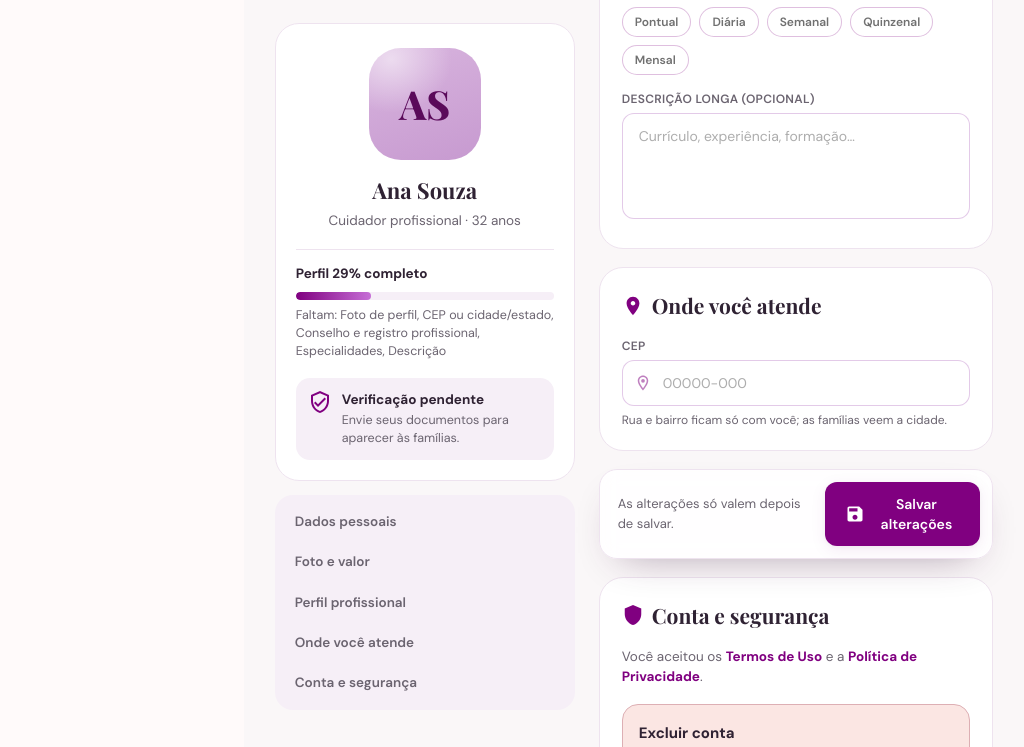
it: Página de Perfil › um só campo de CEP: mostra rua, bairro, cidade e UF e envia o endereço
(page scrolled)
Type "50030230" into the field labelled "CEP" at (796,382), box x1=622 y1=360 x2=970 y2=406
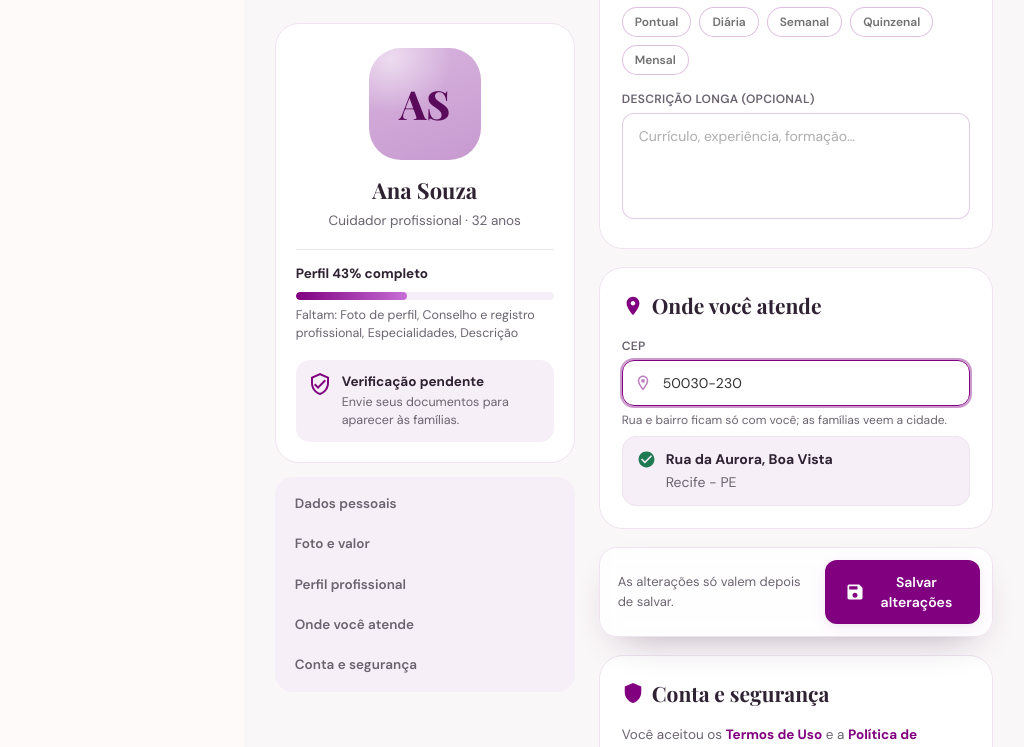
Result: the field labelled "CEP" holds "50030-230" at x1=622 y1=360 x2=970 y2=406
Result: the text "Rua da Aurora, Boa Vista" is shown at x1=666 y1=448 x2=833 y2=470
Result: the text "Recife - PE" is shown at x1=666 y1=472 x2=736 y2=490
Click the button "Salvar alterações" at (902,592), box x1=825 y1=560 x2=980 y2=624
(page scrolled)
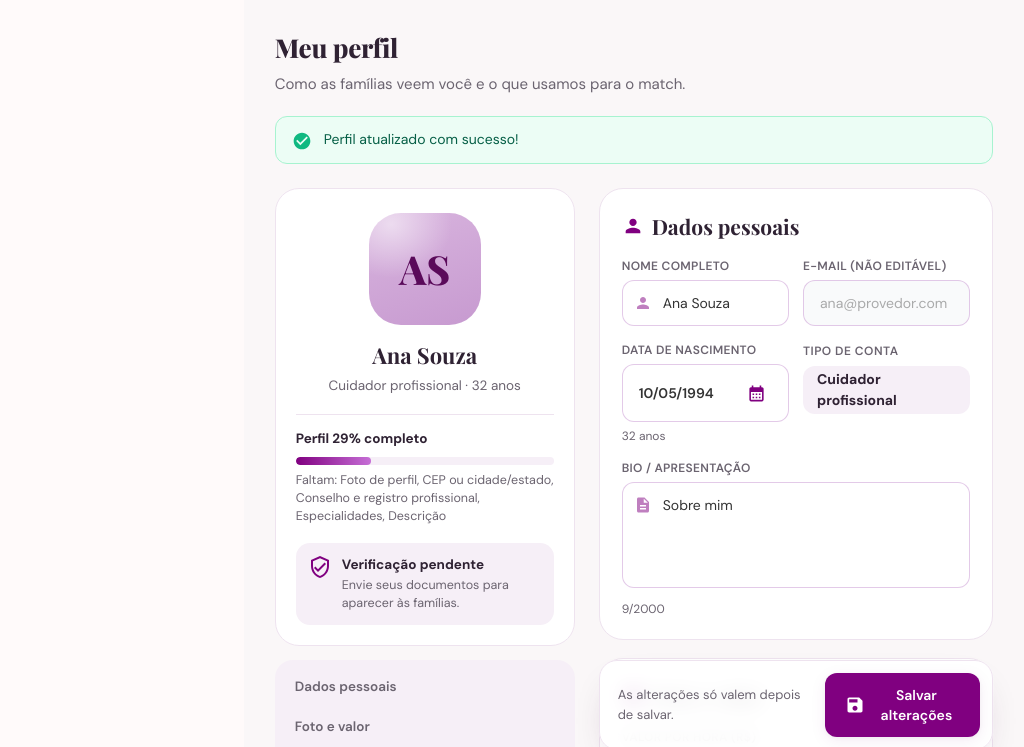
Result: the text "Perfil atualizado com sucesso!" is shown at x1=324 y1=128 x2=518 y2=148
